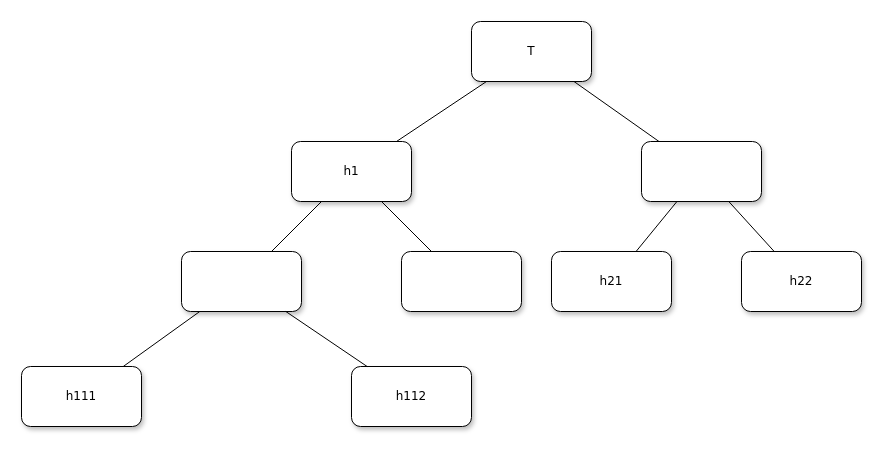
This 885x451 diagram has some shape labels left out. Each missing label, with the centre of its shape:
h11: [242,282]
h12: [462,282]
h2: [702,172]
